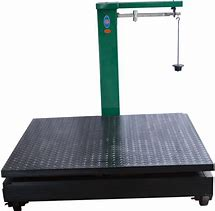Industrial Scale: (1, 1, 215, 209)
